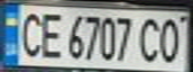0: (100, 14, 118, 62)
6: (63, 10, 87, 60)
7: (115, 14, 136, 62), (81, 11, 100, 61)
C: (15, 8, 45, 59), (136, 14, 166, 63)
E: (36, 9, 66, 60)
O: (157, 15, 187, 64)
